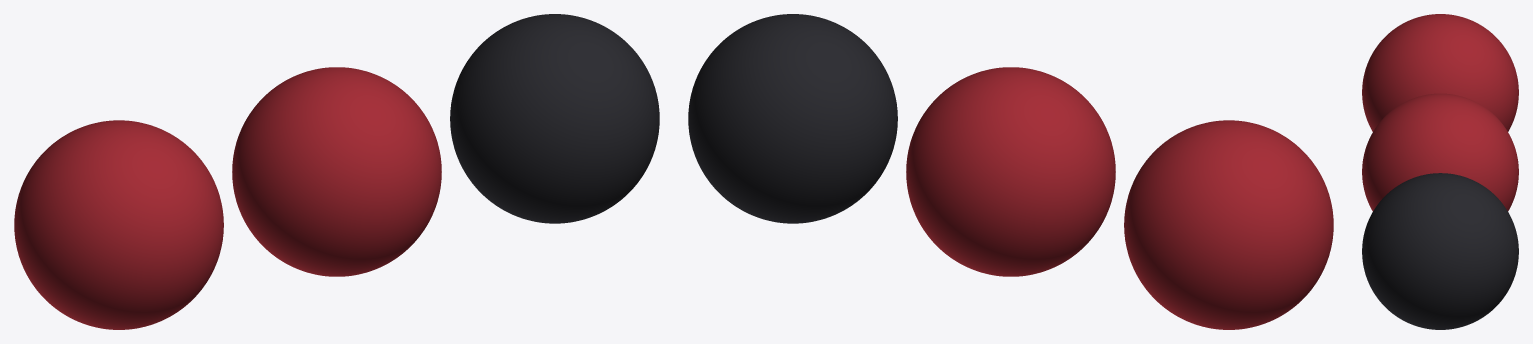
The model's file is clearcoat_fixture.gltf.
3 renders of one model, left to right at view 1: azimuth 30°, elevation 25°; view 2: azimuth 150°, elevation 25°; view 3: azimuth 270°, elevation 25°, orthographic. The views are drawn at different scales.
Parts seen in each view (by area): view 1: car_paint_nocoat, car_paint, carbon; view 2: car_paint_nocoat, car_paint, carbon; view 3: carbon, car_paint, car_paint_nocoat.
Part boxes in pixels (box(x1,y1,x2,y2)): car_paint_nocoat: box(232, 67, 441, 276); car_paint: box(14, 120, 223, 329); carbon: box(450, 14, 659, 223); car_paint_nocoat: box(906, 67, 1115, 276); car_paint: box(1124, 120, 1333, 329); carbon: box(688, 14, 897, 223); carbon: box(1362, 173, 1518, 329); car_paint: box(1362, 14, 1518, 131); car_paint_nocoat: box(1362, 93, 1518, 211).
Size of the model in its own units: 3.4 by 1 by 1.
